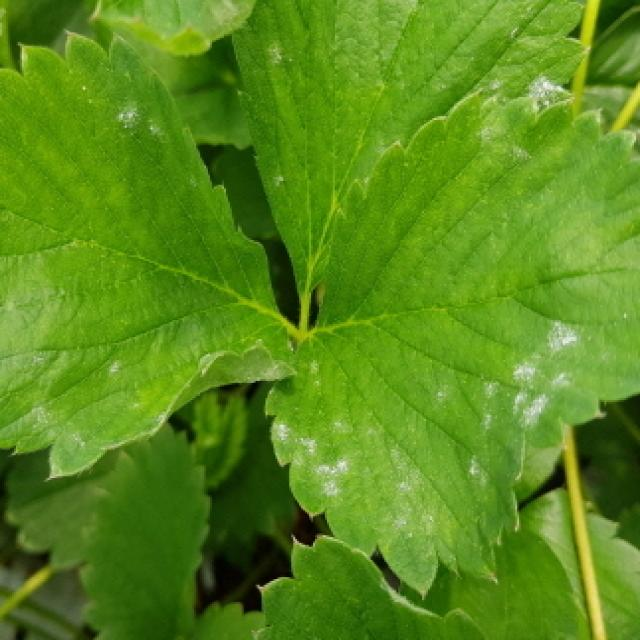Powdery Mildew Leaf: (262, 86, 640, 605), (0, 31, 308, 482), (231, 0, 589, 309)
